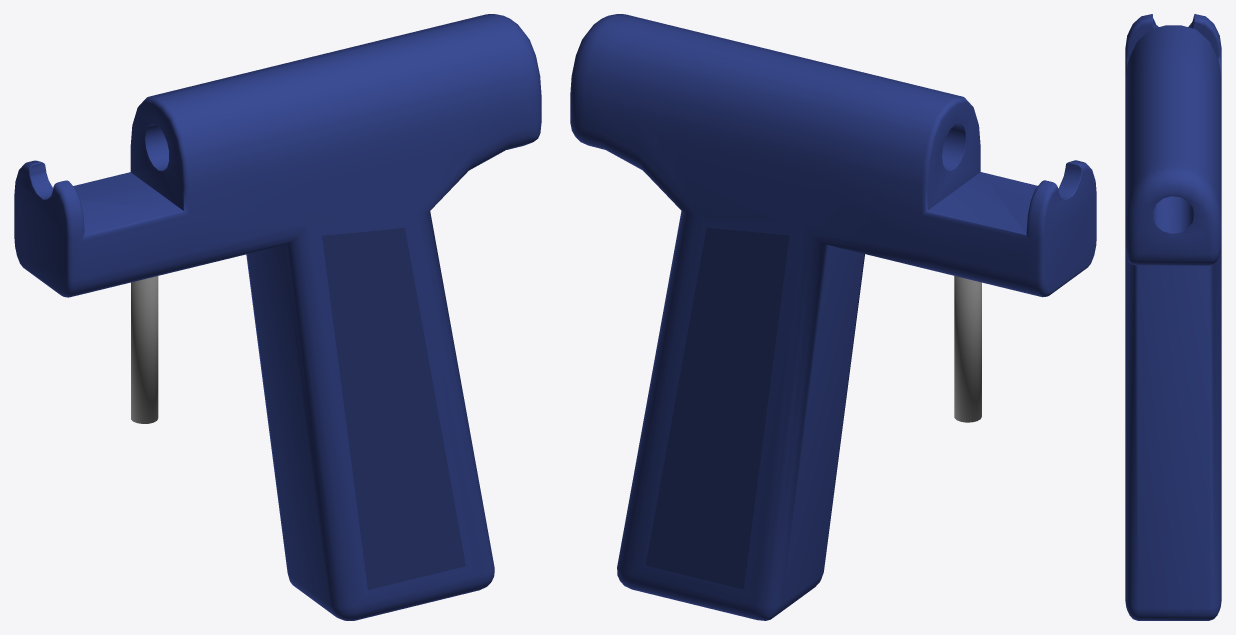
Rendered from piercing tool body.fbx.
3 views of the same model, side by side, from view 1: azimuth 30°, elevation 25°; view 2: azimuth 150°, elevation 25°; view 3: azimuth 270°, elevation 25° (orthographic). The views are drawn at different scales.
Parts seen in each view (by area): view 1: body; view 2: body; view 3: body.
Part boxes in pixels (x1,y1,x2,y2): body: (14,14,541,620); body: (570,14,1096,620); body: (1125,14,1221,620).
Bounding box in the file's own units: 393 × 428 × 79.66.
